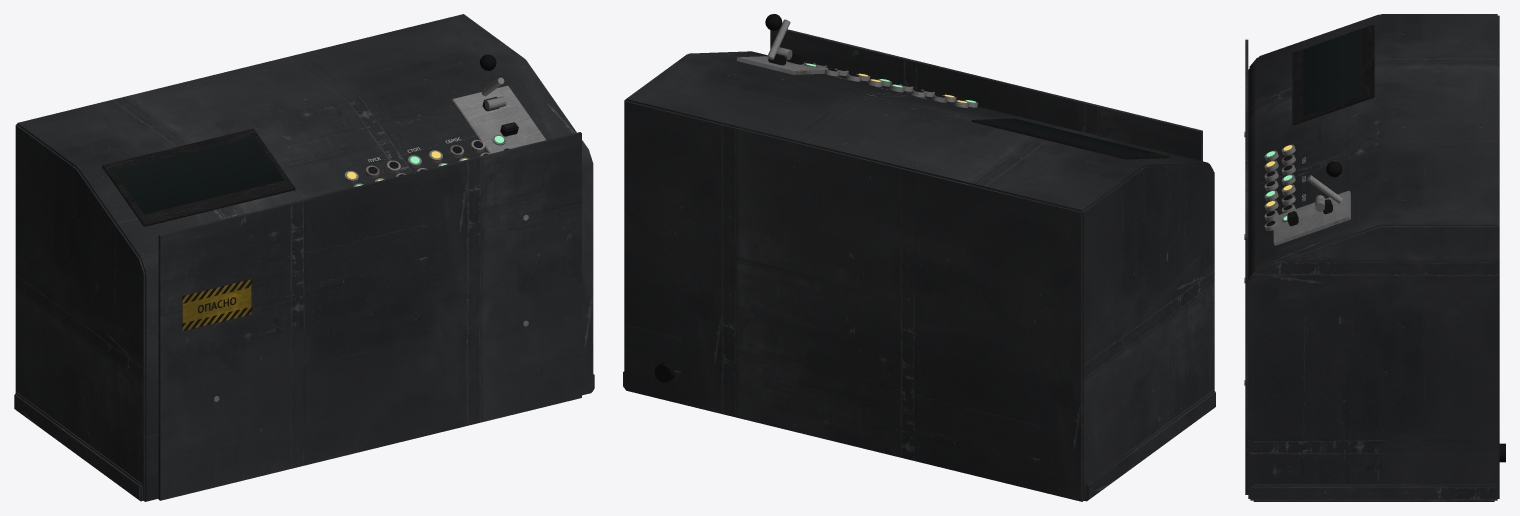
File: control_desk.gltf
3 views of the same model, side by side, from view 1: azimuth 30°, elevation 25°; view 2: azimuth 150°, elevation 25°; view 3: azimuth 270°, elevation 25° (orthographic). The views are drawn at different scales.
Visible parts, largest first — view 1: Body, Screen, Switch; view 2: Body, Screen, Switch; view 3: Body, Screen, Switch.
Boxes of the visible parts, left/top/right/bottom form: Body: left=14, top=14, right=594, bottom=501; Screen: left=114, top=137, right=284, bottom=214; Switch: left=479, top=54, right=506, bottom=110; Body: left=623, top=28, right=1215, bottom=501; Screen: left=984, top=118, right=1157, bottom=154; Switch: left=765, top=14, right=792, bottom=59; Body: left=1244, top=14, right=1505, bottom=501; Screen: left=1303, top=30, right=1361, bottom=116; Switch: left=1307, top=161, right=1342, bottom=211.
Bounding box in the file's own units: 1.62 × 1.09 × 0.834.
Materials: 9 (7 with a texture image).
